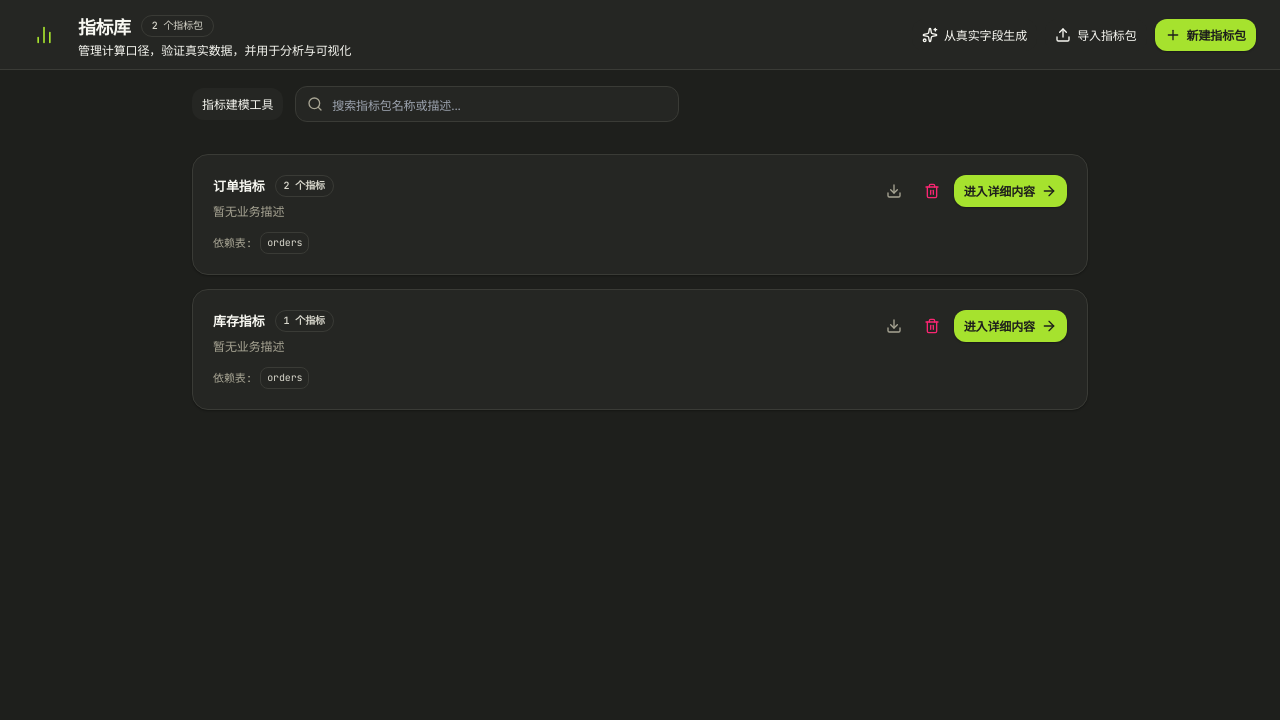
Test: MetricManager workflow regressions › keeps a changed definition when an old validation finishes
Click the heading "订单指标".
click(239, 186)  # box [213,177,264,195]
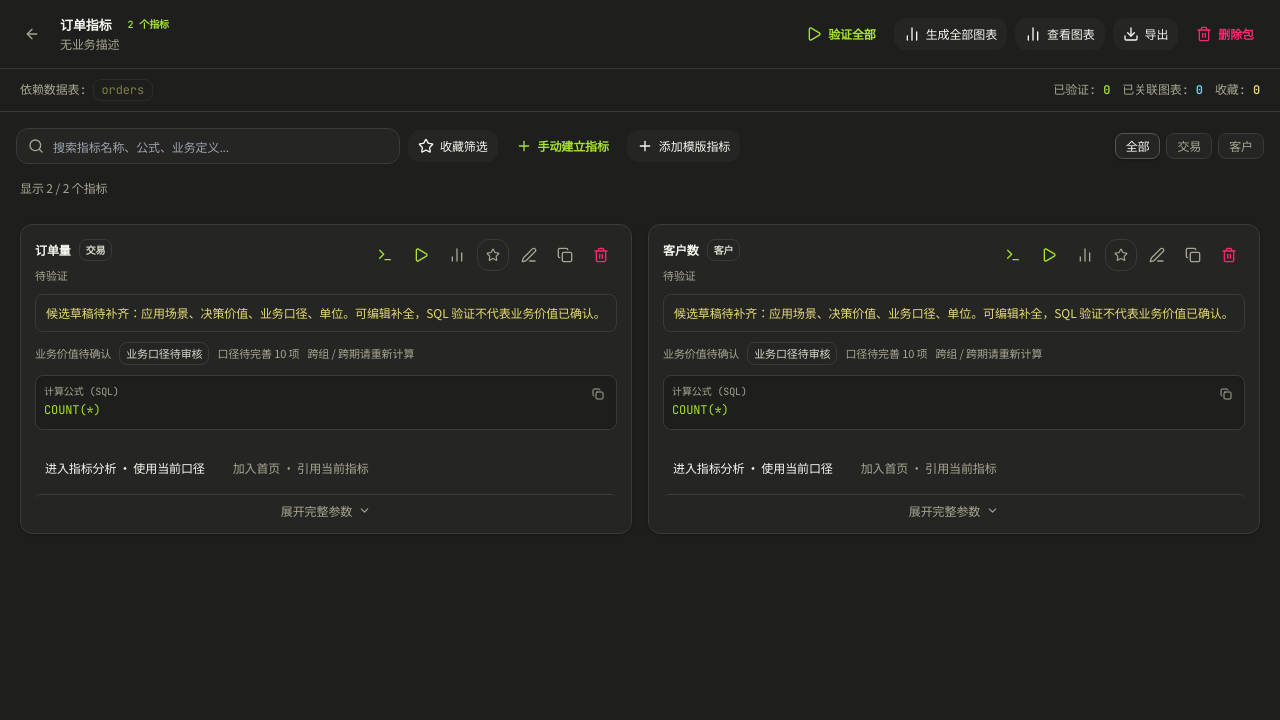
Click the button named "验证 SQL 计算" in the row of "订单量".
click(421, 255)  # box [405,239,437,271]
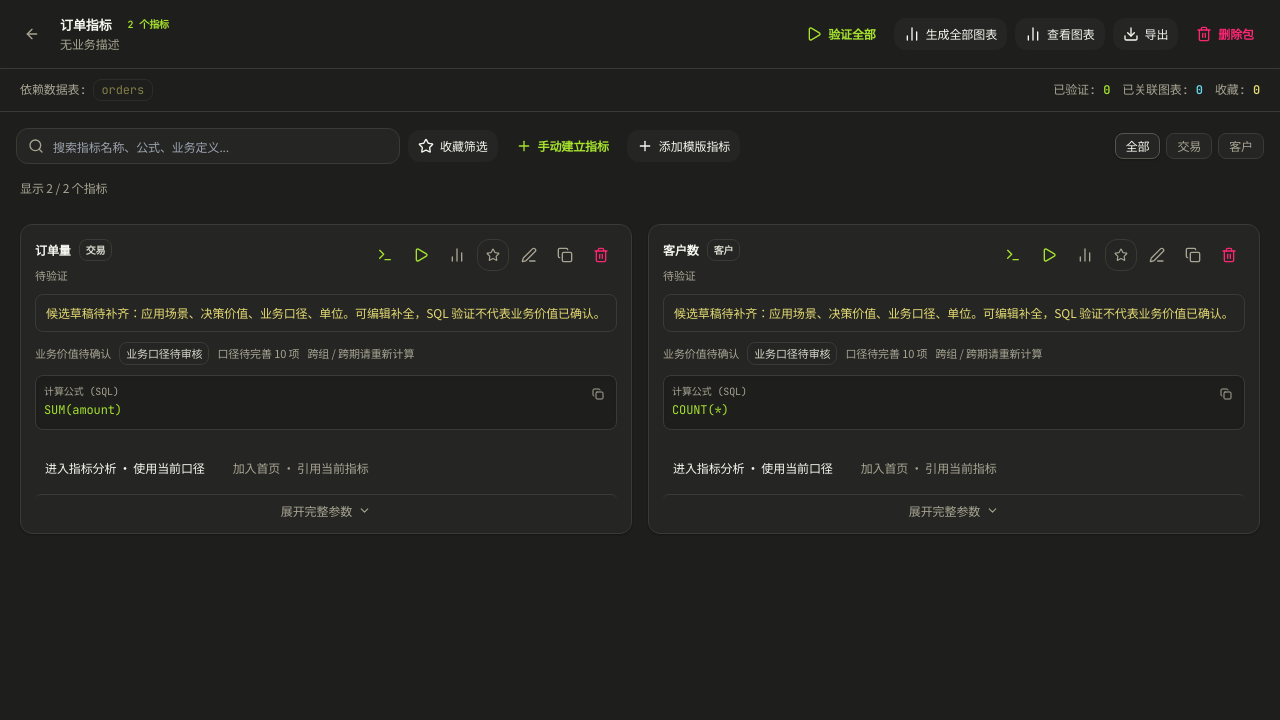
Result: the text "SUM(amount)" is shown at [44,402,122,418]
